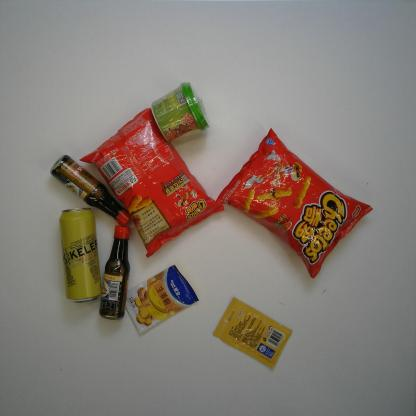Alcohol: (58, 207, 102, 303)
Instant Drink: (150, 81, 210, 144)
Puffed Food: (214, 126, 373, 279), (78, 107, 224, 258)
Seasoner: (50, 154, 132, 227), (212, 297, 294, 370), (125, 264, 200, 335), (99, 225, 132, 321)
